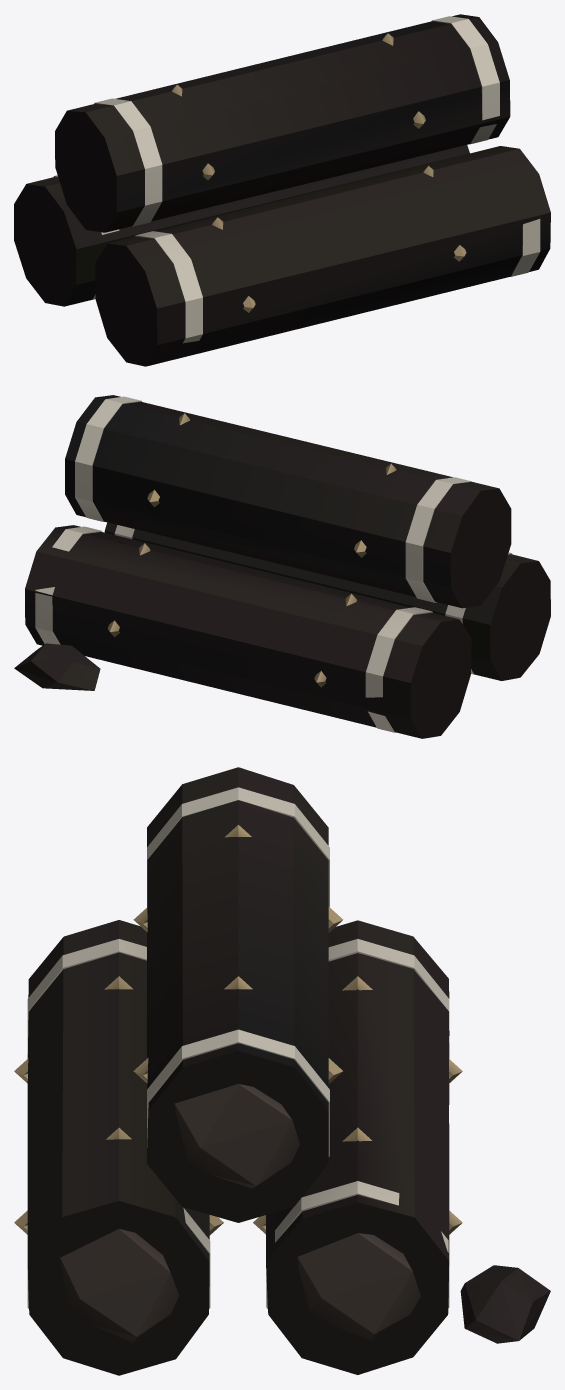
The picture shows the model from 3 angles, top to bottom: view 1: azimuth 30°, elevation 25°; view 2: azimuth 150°, elevation 25°; view 3: azimuth 270°, elevation 25°; orthographic projection. The views are drawn at different scales.
Visible parts, largest first — view 1: base; view 2: base; view 3: base.
Part boxes in pixels (box(x1,y1,x2,y2)): base: box(14, 14, 550, 366); base: box(14, 395, 550, 738); base: box(14, 767, 550, 1375).
Bounding box in the file's own units: 0.5686 × 0.316 × 0.4498.
